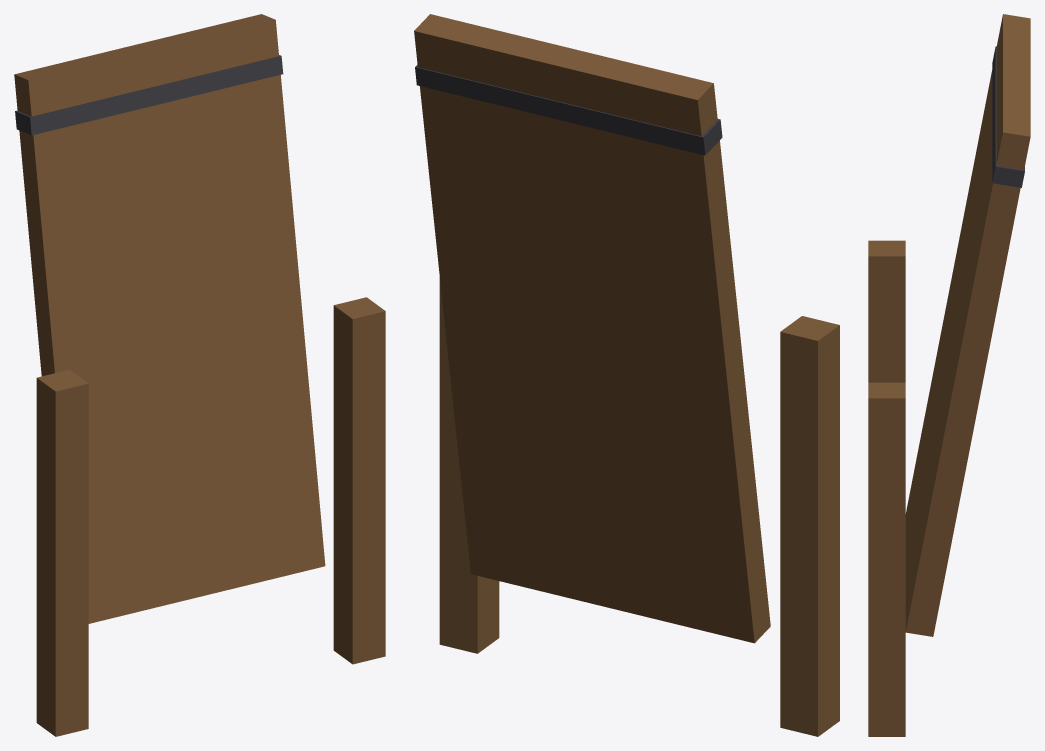
File: drawbridge.glb
The picture shows the model from 3 angles, left to right: view 1: azimuth 30°, elevation 25°; view 2: azimuth 150°, elevation 25°; view 3: azimuth 270°, elevation 25°; orthographic projection. The views are drawn at different scales.
Visible parts, largest first — view 1: Bridge, PostRight, PostLeft, Bands; view 2: Bridge, PostLeft, PostRight, Bands; view 3: Bridge, PostRight, PostLeft, Bands.
Boxes of the visible parts, box(x1,y1,x2,y2) form: Bridge: box(14, 14, 325, 623); PostRight: box(333, 297, 385, 664); PostLeft: box(36, 369, 88, 736); Bands: box(15, 55, 283, 135); Bridge: box(414, 14, 770, 643); PostLeft: box(780, 316, 839, 736); PostRight: box(439, 277, 499, 653); Bands: box(415, 64, 722, 155); Bridge: box(905, 14, 1030, 636); PostRight: box(868, 382, 905, 736); PostLeft: box(868, 240, 905, 382); Bands: box(992, 46, 1024, 187).
Size of what is drawn, in the model's own units: 4 by 6.91 by 1.74.
